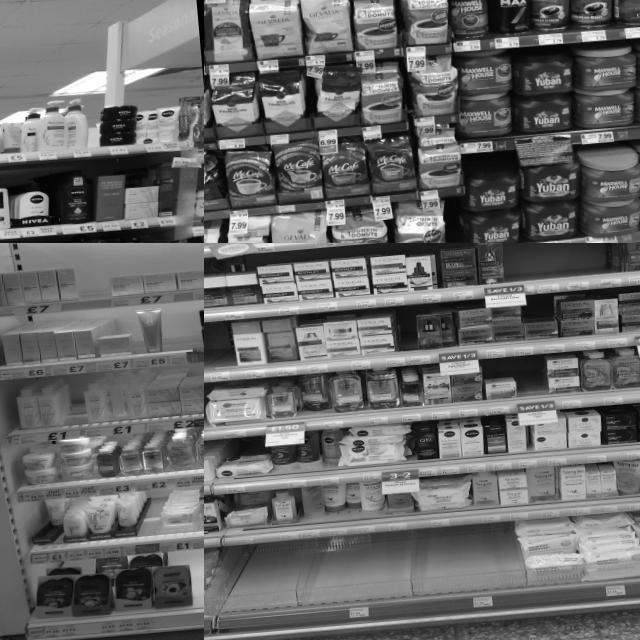empty_space: (241, 534, 414, 629), (413, 523, 521, 614), (162, 303, 202, 365), (514, 357, 551, 413), (204, 322, 234, 383), (502, 243, 535, 296), (531, 243, 563, 293), (77, 264, 112, 309), (560, 243, 589, 290), (397, 307, 419, 365), (586, 243, 614, 288), (142, 491, 162, 553), (68, 378, 88, 437), (190, 548, 204, 624)
